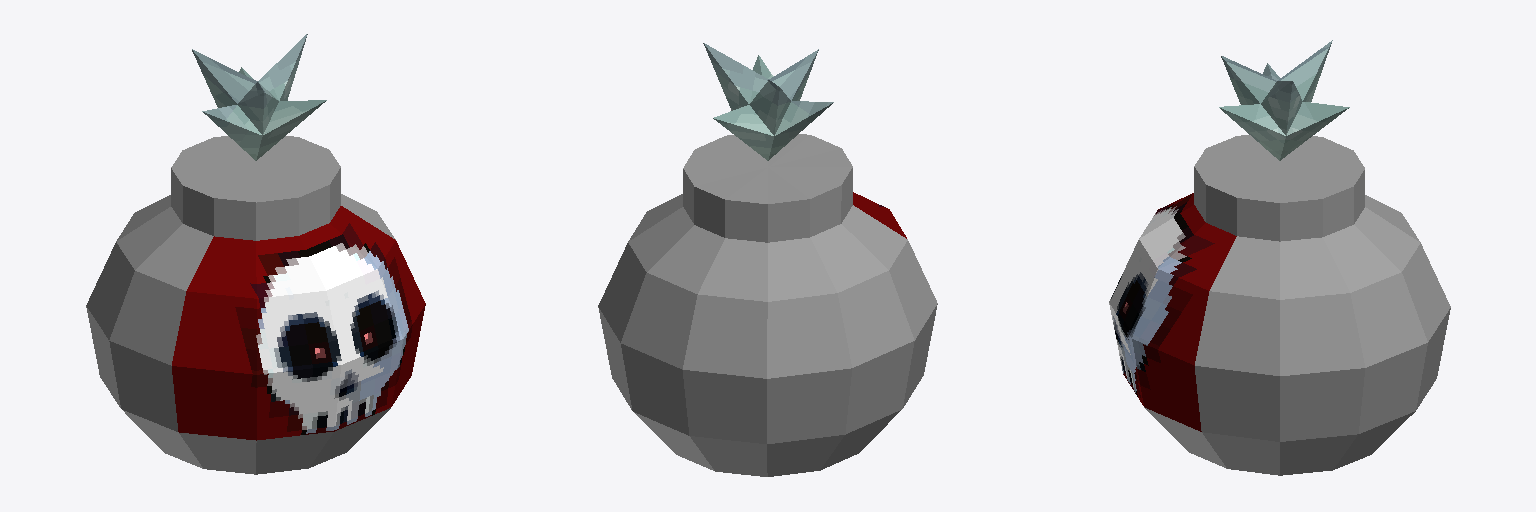
3 renders of one model, left to right at view 1: azimuth 30°, elevation 25°; view 2: azimuth 150°, elevation 25°; view 3: azimuth 270°, elevation 25°, orthographic.
Visible parts, largest first — view 1: Mesh.562_DrawCall_274; view 2: Mesh.562_DrawCall_274; view 3: Mesh.562_DrawCall_274.
Boxes of the visible parts, <box> form: Mesh.562_DrawCall_274: <box>86,34,425,474</box>; Mesh.562_DrawCall_274: <box>598,43,937,476</box>; Mesh.562_DrawCall_274: <box>1109,40,1450,475</box>.
Size of the model in its own units: 10.23 by 13.59 by 10.32.
Materials: 3 (2 with a texture image).